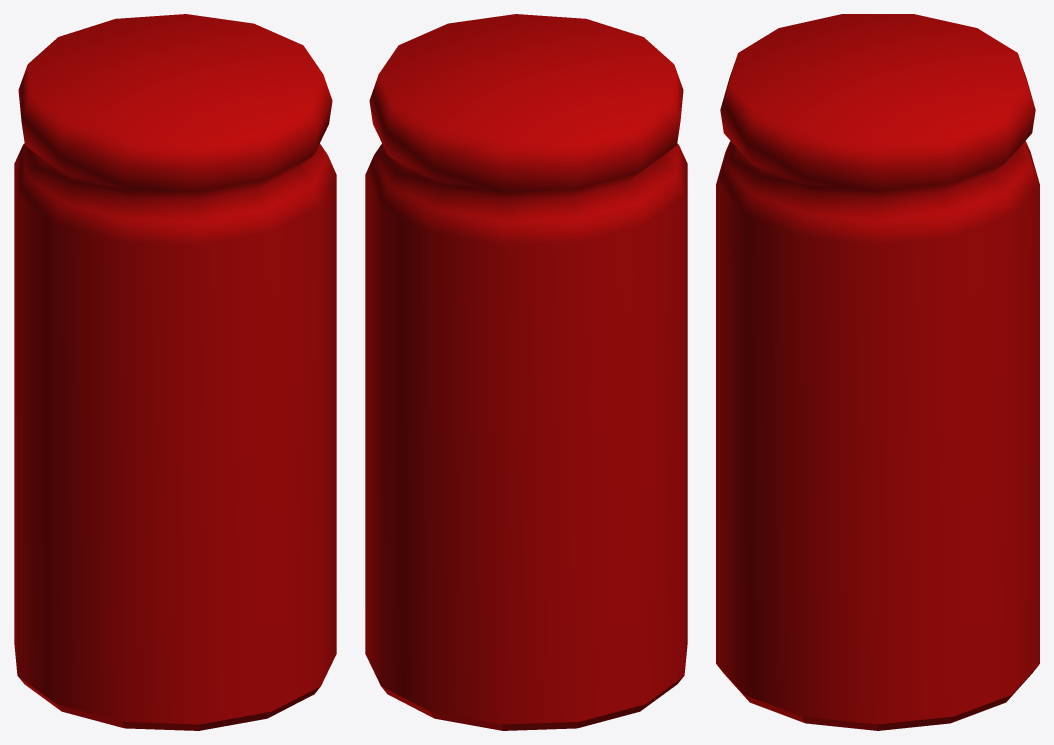
Rendered from SM_WallShelf_01e.FBX.
3 renders of one model, left to right at view 1: azimuth 30°, elevation 25°; view 2: azimuth 150°, elevation 25°; view 3: azimuth 270°, elevation 25°, orthographic.
Parts seen in each view (by area): view 1: SM_WallShelf_01e_LOD0; view 2: SM_WallShelf_01e_LOD0; view 3: SM_WallShelf_01e_LOD0.
Part boxes in pixels (x1,y1,x2,y2): SM_WallShelf_01e_LOD0: [14, 14, 336, 730]; SM_WallShelf_01e_LOD0: [365, 14, 687, 730]; SM_WallShelf_01e_LOD0: [716, 14, 1039, 730].
Size of what is drawn, in the model's own units: 10.72 by 21.7 by 10.8.
